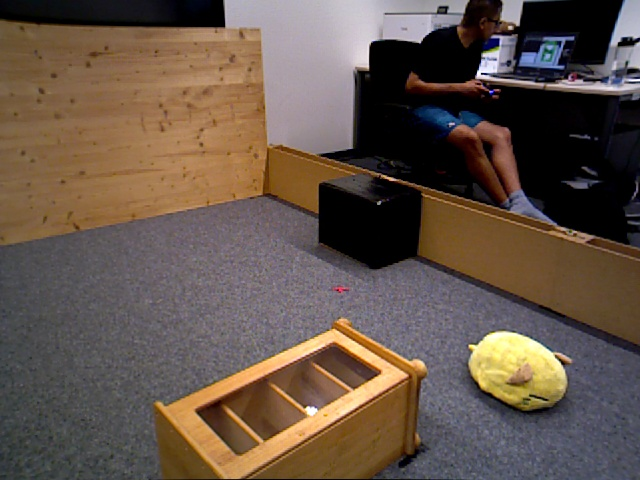grasp: (468, 328, 567, 413)
push: (319, 182, 423, 268)
